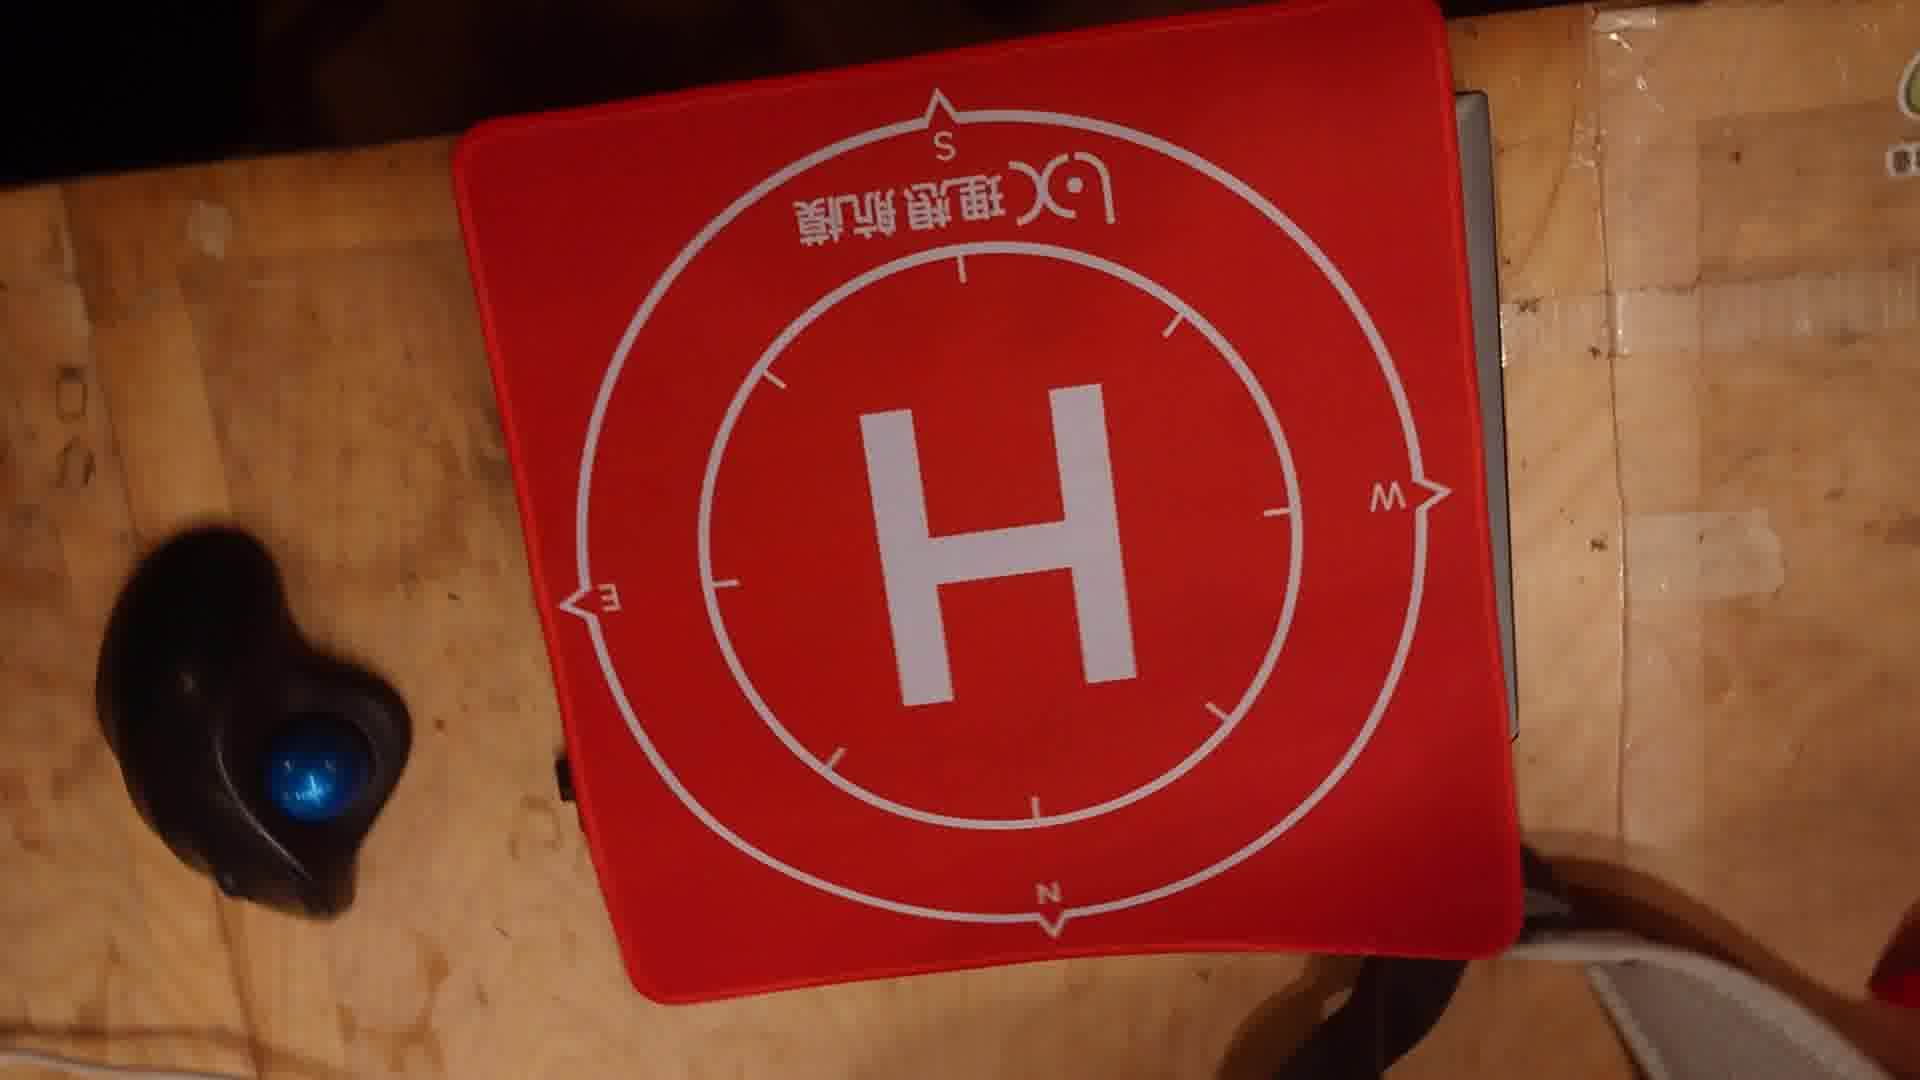H: (858, 386, 1139, 708)
